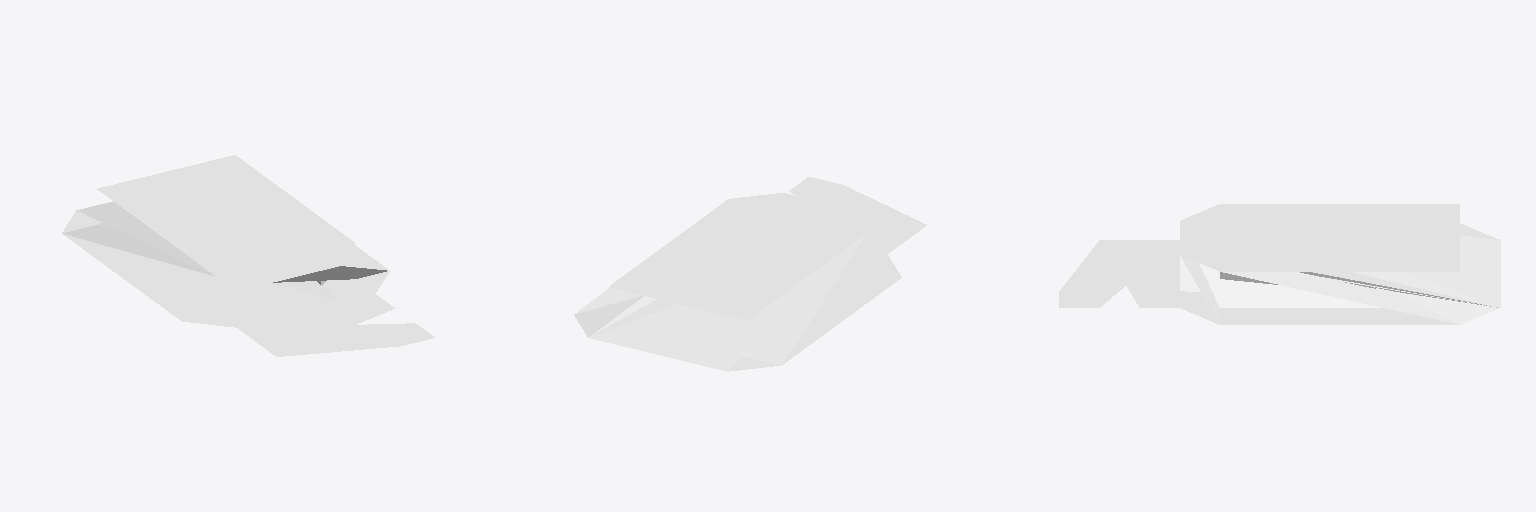
File: bigturtle.obj
The picture shows the model from 3 angles: view 1: azimuth 30°, elevation 25°; view 2: azimuth 150°, elevation 25°; view 3: azimuth 270°, elevation 25°; orthographic projection.
Size of the model in its own units: 12 by 2 by 22.